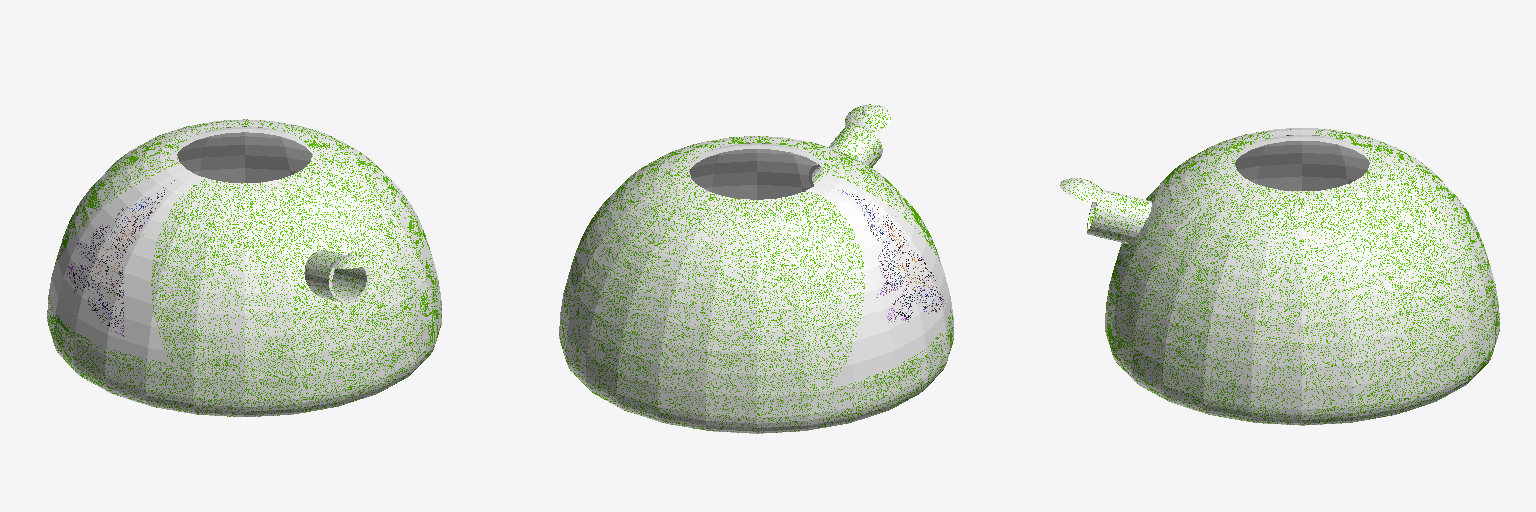
3 views of the same model, side by side, from view 1: azimuth 30°, elevation 25°; view 2: azimuth 150°, elevation 25°; view 3: azimuth 270°, elevation 25° (orthographic).
Visible parts, largest first — view 1: mesh13/mesh13-geometry#mesh13-geometry; view 2: mesh13/mesh13-geometry#mesh13-geometry; view 3: mesh13/mesh13-geometry#mesh13-geometry.
Boxes of the visible parts, <box> form: mesh13/mesh13-geometry#mesh13-geometry: <box>47,119,441,416</box>; mesh13/mesh13-geometry#mesh13-geometry: <box>559,104,953,433</box>; mesh13/mesh13-geometry#mesh13-geometry: <box>1060,128,1499,425</box>.
Size of the model in its own units: 1.38 by 0.7147 by 1.54.
5 materials, 1 textured.